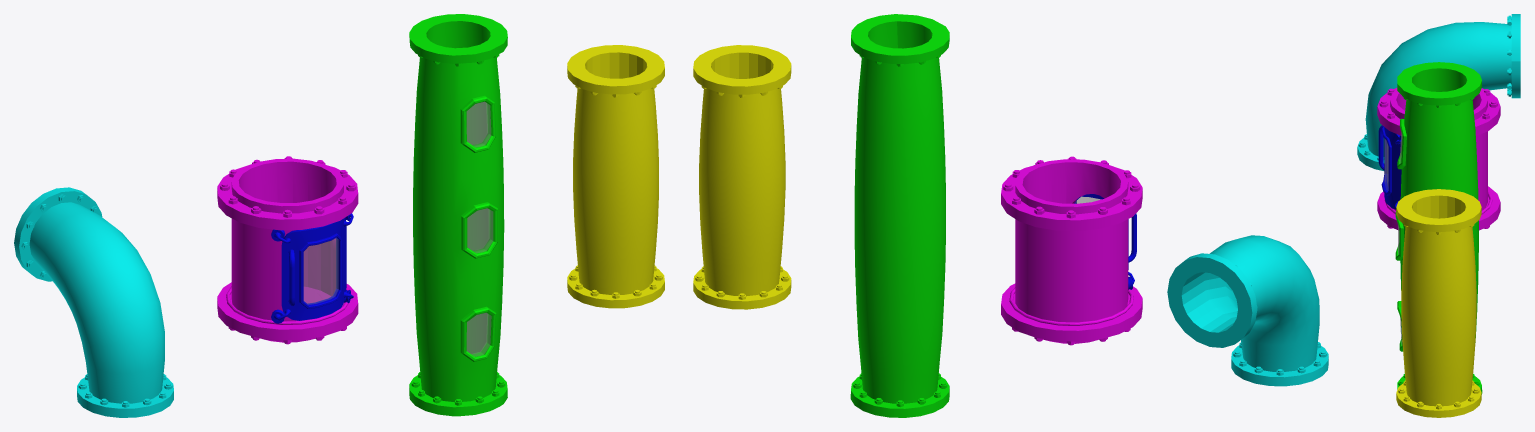
Rendered from Pipes.fbx.
3 views of the same model, side by side, from view 1: azimuth 30°, elevation 25°; view 2: azimuth 150°, elevation 25°; view 3: azimuth 270°, elevation 25° (orthographic). The views are drawn at different scales.
Parts seen in each view (by area): view 1: Pipe4, Pipe2, Pipe3, Capsule1, Door; view 2: Pipe4, Pipe2, Capsule1, Pipe3, Door; view 3: Pipe2, Pipe4, Pipe3, Capsule1, Door.
Boxes of the visible parts, <box> form: Pipe4: <box>409,14,507,416</box>; Pipe2: <box>567,45,664,308</box>; Pipe3: <box>14,187,173,417</box>; Capsule1: <box>217,156,358,344</box>; Door: <box>271,213,353,323</box>; Pipe4: <box>850,14,949,417</box>; Pipe2: <box>693,45,791,309</box>; Capsule1: <box>1001,156,1142,345</box>; Pipe3: <box>1167,235,1328,386</box>; Door: <box>1074,194,1136,289</box>; Pipe2: <box>1396,189,1481,417</box>; Pipe4: <box>1395,62,1482,394</box>; Pipe3: <box>1357,14,1520,170</box>; Capsule1: <box>1377,88,1500,230</box>; Door: <box>1378,125,1401,209</box>.
Size of the model in its own units: 2.6 by 1.5 by 0.7072.
